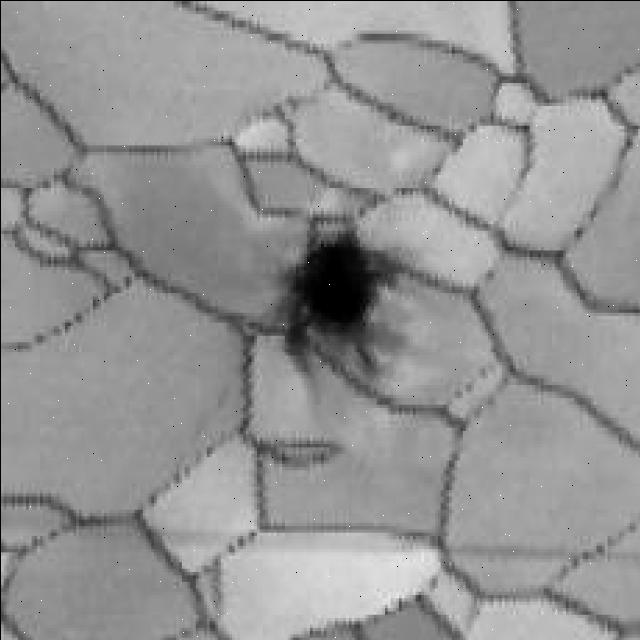good_void: (267, 215, 404, 384)
